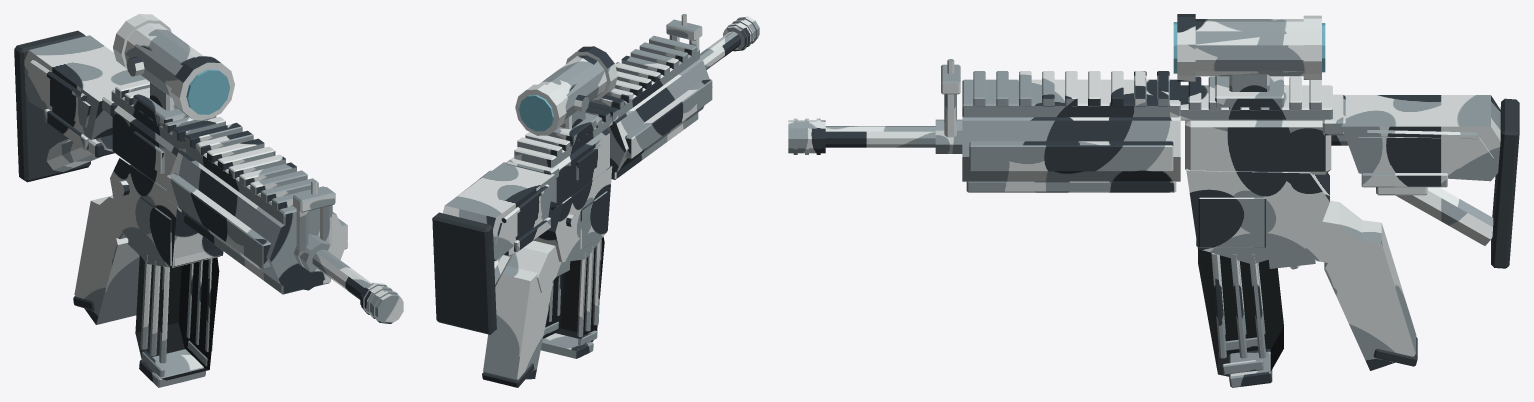
File: M4_SnowCamo.glb
3 renders of one model, left to right at view 1: azimuth 30°, elevation 25°; view 2: azimuth 150°, elevation 25°; view 3: azimuth 270°, elevation 25°, orthographic. The views are drawn at different scales.
Parts seen in each view (by area): view 1: FTF_Weapon_M4A1_RuralCamo_Mesh; view 2: FTF_Weapon_M4A1_RuralCamo_Mesh; view 3: FTF_Weapon_M4A1_RuralCamo_Mesh.
Boxes of the visible parts, x1,y1,x2,y2 form: FTF_Weapon_M4A1_RuralCamo_Mesh: [14, 14, 403, 387]; FTF_Weapon_M4A1_RuralCamo_Mesh: [432, 14, 759, 387]; FTF_Weapon_M4A1_RuralCamo_Mesh: [788, 14, 1519, 387].
Size of the model in its own units: 0.182 by 0.6896 by 1.27.
4 materials, 1 textured.
